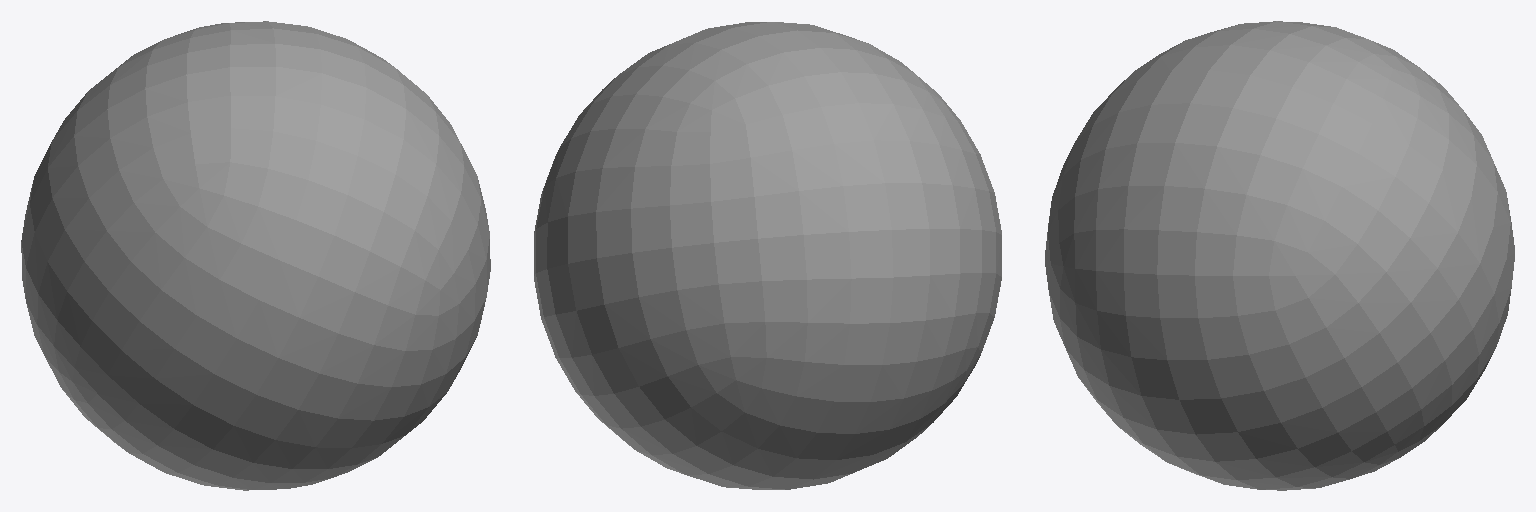
File: Mercury_1K.obj
3 views of the same model, side by side, from view 1: azimuth 30°, elevation 25°; view 2: azimuth 150°, elevation 25°; view 3: azimuth 270°, elevation 25° (orthographic).
Parts seen in each view (by area): view 1: Mercury; view 2: Mercury; view 3: Mercury.
Boxes of the visible parts, x1=… form: Mercury: x1=21, y1=21, x2=490, y2=490; Mercury: x1=534, y1=22, x2=1001, y2=489; Mercury: x1=1045, y1=21, x2=1514, y2=490.
Bounding box in the file's own units: 31350 × 31309 × 31413.